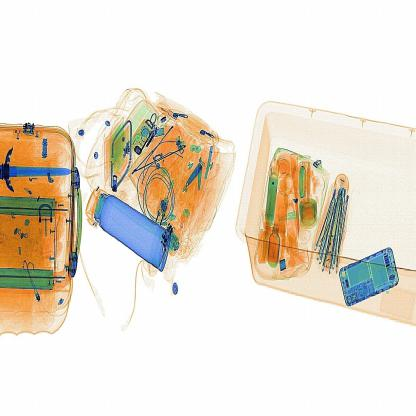wrench: (3, 144, 73, 190)
